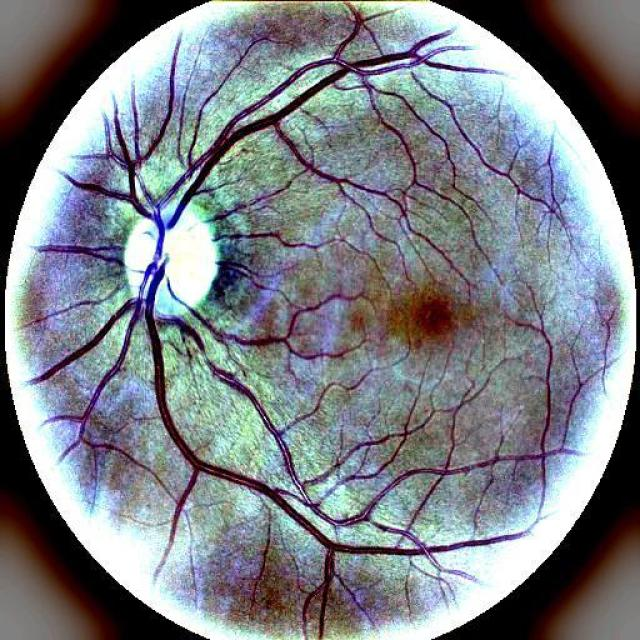Macula: (388, 285, 458, 348)
Nerves: (31, 43, 540, 567)
Optic Disk: (124, 206, 218, 329)
